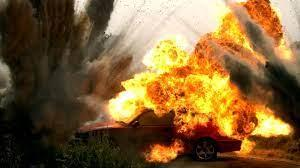fire: (82, 0, 300, 159)
